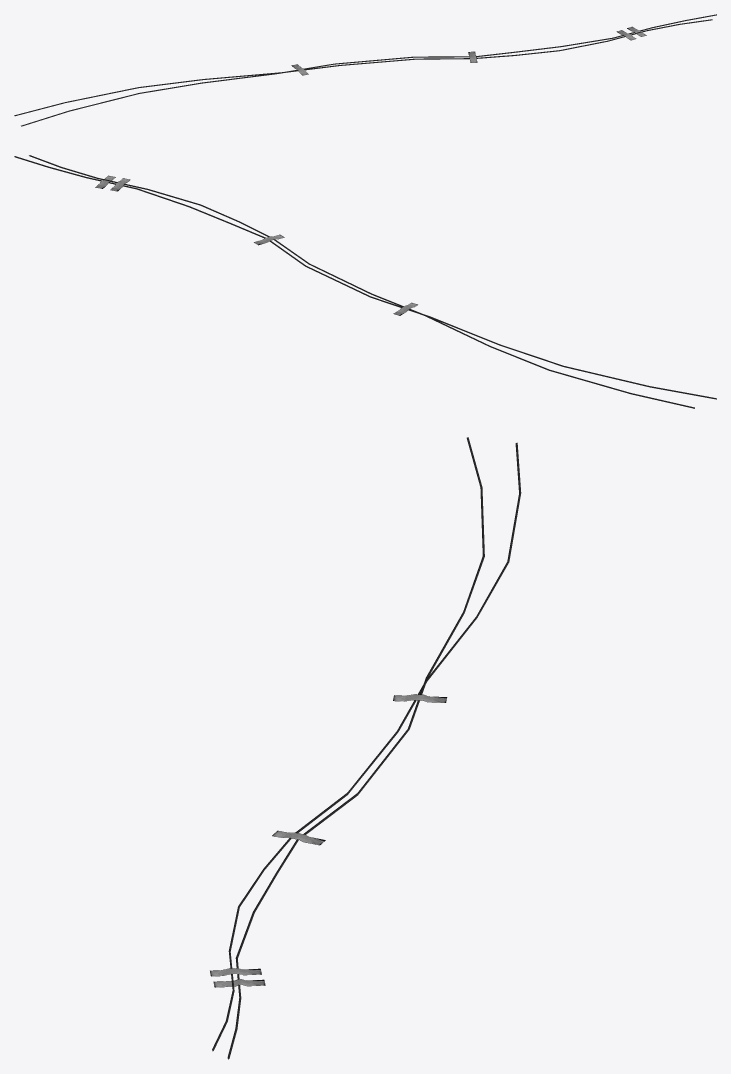
Rendered from Cable_Strip_A.fbx.
3 views of the same model, one above another, from view 1: azimuth 30°, elevation 25°; view 2: azimuth 150°, elevation 25°; view 3: azimuth 270°, elevation 25° (orthographic). The views are drawn at different scales.
Parts seen in each view (by area): view 1: Mic_Cable, Cable_Tape; view 2: Mic_Cable, Cable_Tape; view 3: Mic_Cable, Cable_Tape.
Part boxes in pixels (left/top/right/bottom): Mic_Cable: left=14, top=14, right=716, bottom=126; Cable_Tape: left=291, top=26, right=646, bottom=75; Mic_Cable: left=14, top=155, right=716, bottom=408; Cable_Tape: left=95, top=175, right=417, bottom=315; Mic_Cable: left=212, top=437, right=521, bottom=1059; Cable_Tape: left=210, top=694, right=447, bottom=987.
Size of the model in its own units: 8.51 by 0.0151 by 1.8.
